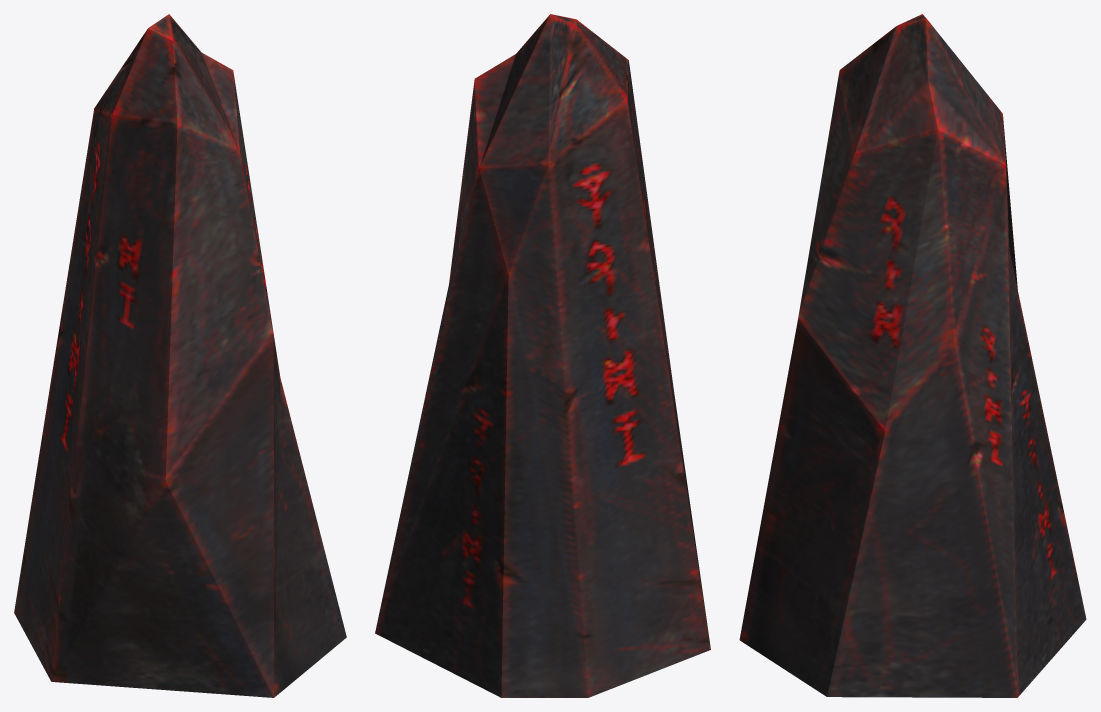
Rendered from 6002_Item_shtou_3.FBX.
3 renders of one model, left to right at view 1: azimuth 30°, elevation 25°; view 2: azimuth 150°, elevation 25°; view 3: azimuth 270°, elevation 25°, orthographic.
Parts seen in each view (by area): view 1: 6002_Item_shtou_3; view 2: 6002_Item_shtou_3; view 3: 6002_Item_shtou_3.
Part boxes in pixels (x1,y1,x2,y2): 6002_Item_shtou_3: (14,14,346,697); 6002_Item_shtou_3: (375,14,710,697); 6002_Item_shtou_3: (739,14,1086,697).
Bounding box in the file's own units: 158 × 348 × 177.
